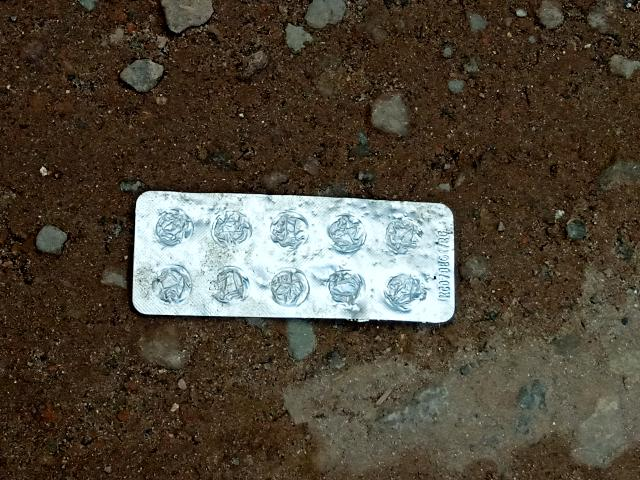medicine: (134, 187, 463, 321)
